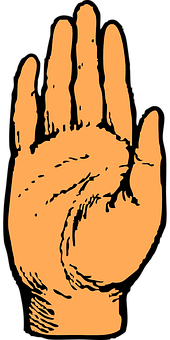palm: (9, 132, 148, 291)
